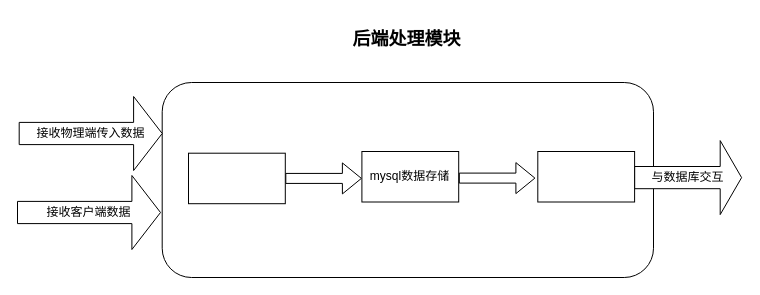
Some shapes in this 760 by 295 pixel diagram are drawn without their labels. The centre of each missing label's shape, as x and y in pixels:
"RabbitMQ消息队列与异步处理" goes at point 586,176.
"数据存储与数据库交互" goes at point 236,178.
